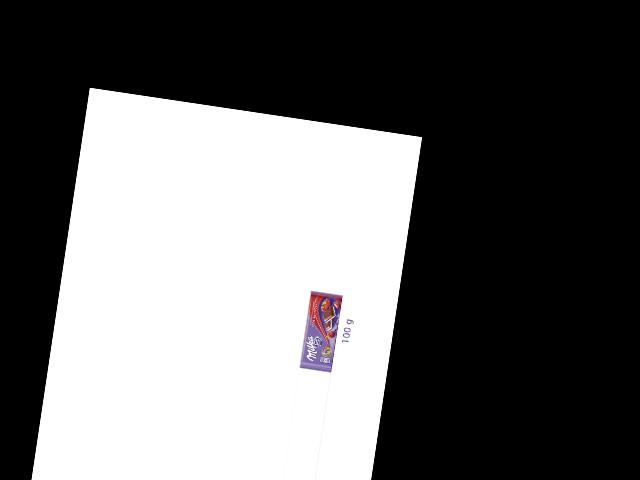chocolate: (299, 290, 346, 372)
